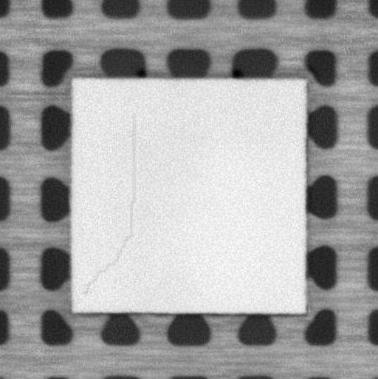DIE_CRACK: (84, 113, 138, 295)
